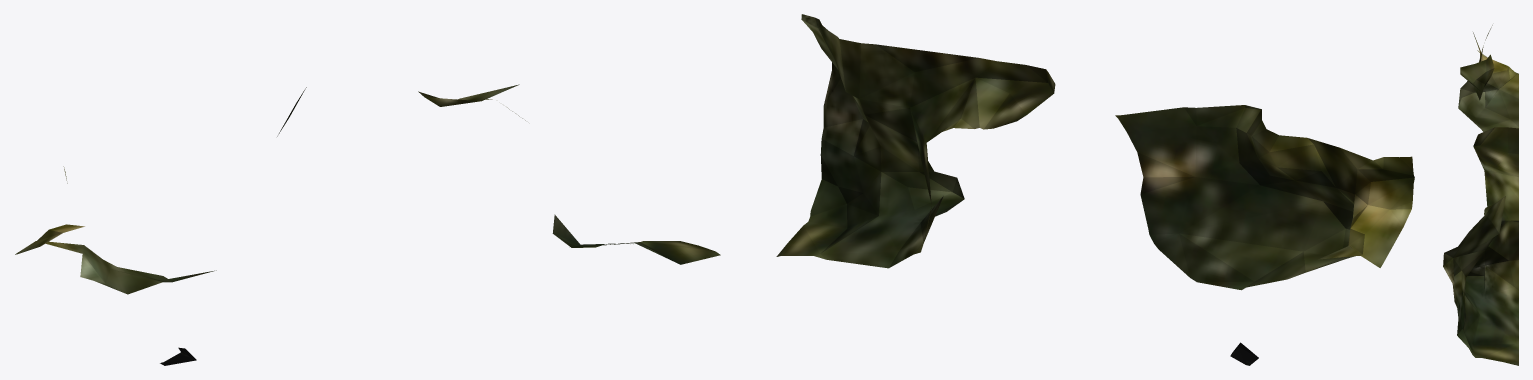
The picture shows the model from 3 angles, left to right: view 1: azimuth 30°, elevation 25°; view 2: azimuth 150°, elevation 25°; view 3: azimuth 270°, elevation 25°; orthographic projection. The views are drawn at different scales.
Bounding box in the file's own units: 1.67 × 0.5943 × 0.2686.
Materials: 1 (1 with a texture image).
